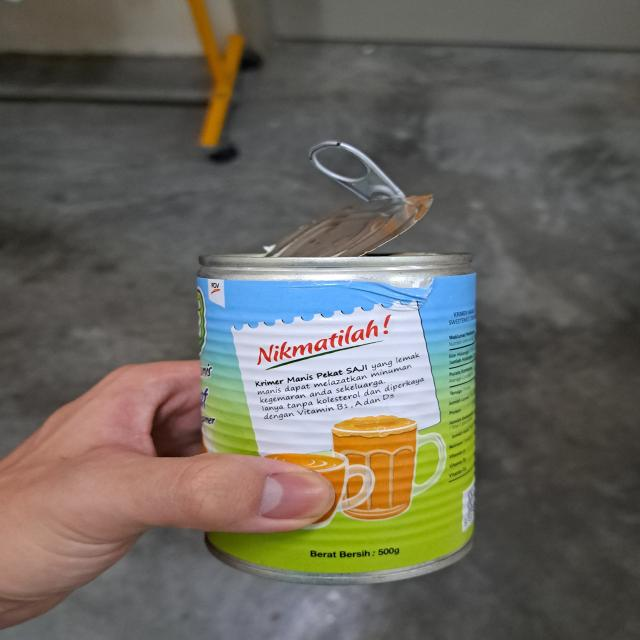can: (196, 250, 481, 584)
pop tab: (309, 134, 408, 204)
